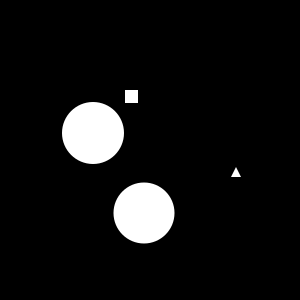circle: (125, 90, 138, 103)
rectangle: (62, 102, 124, 164), (113, 182, 174, 244)
triangle: (231, 167, 241, 177)
